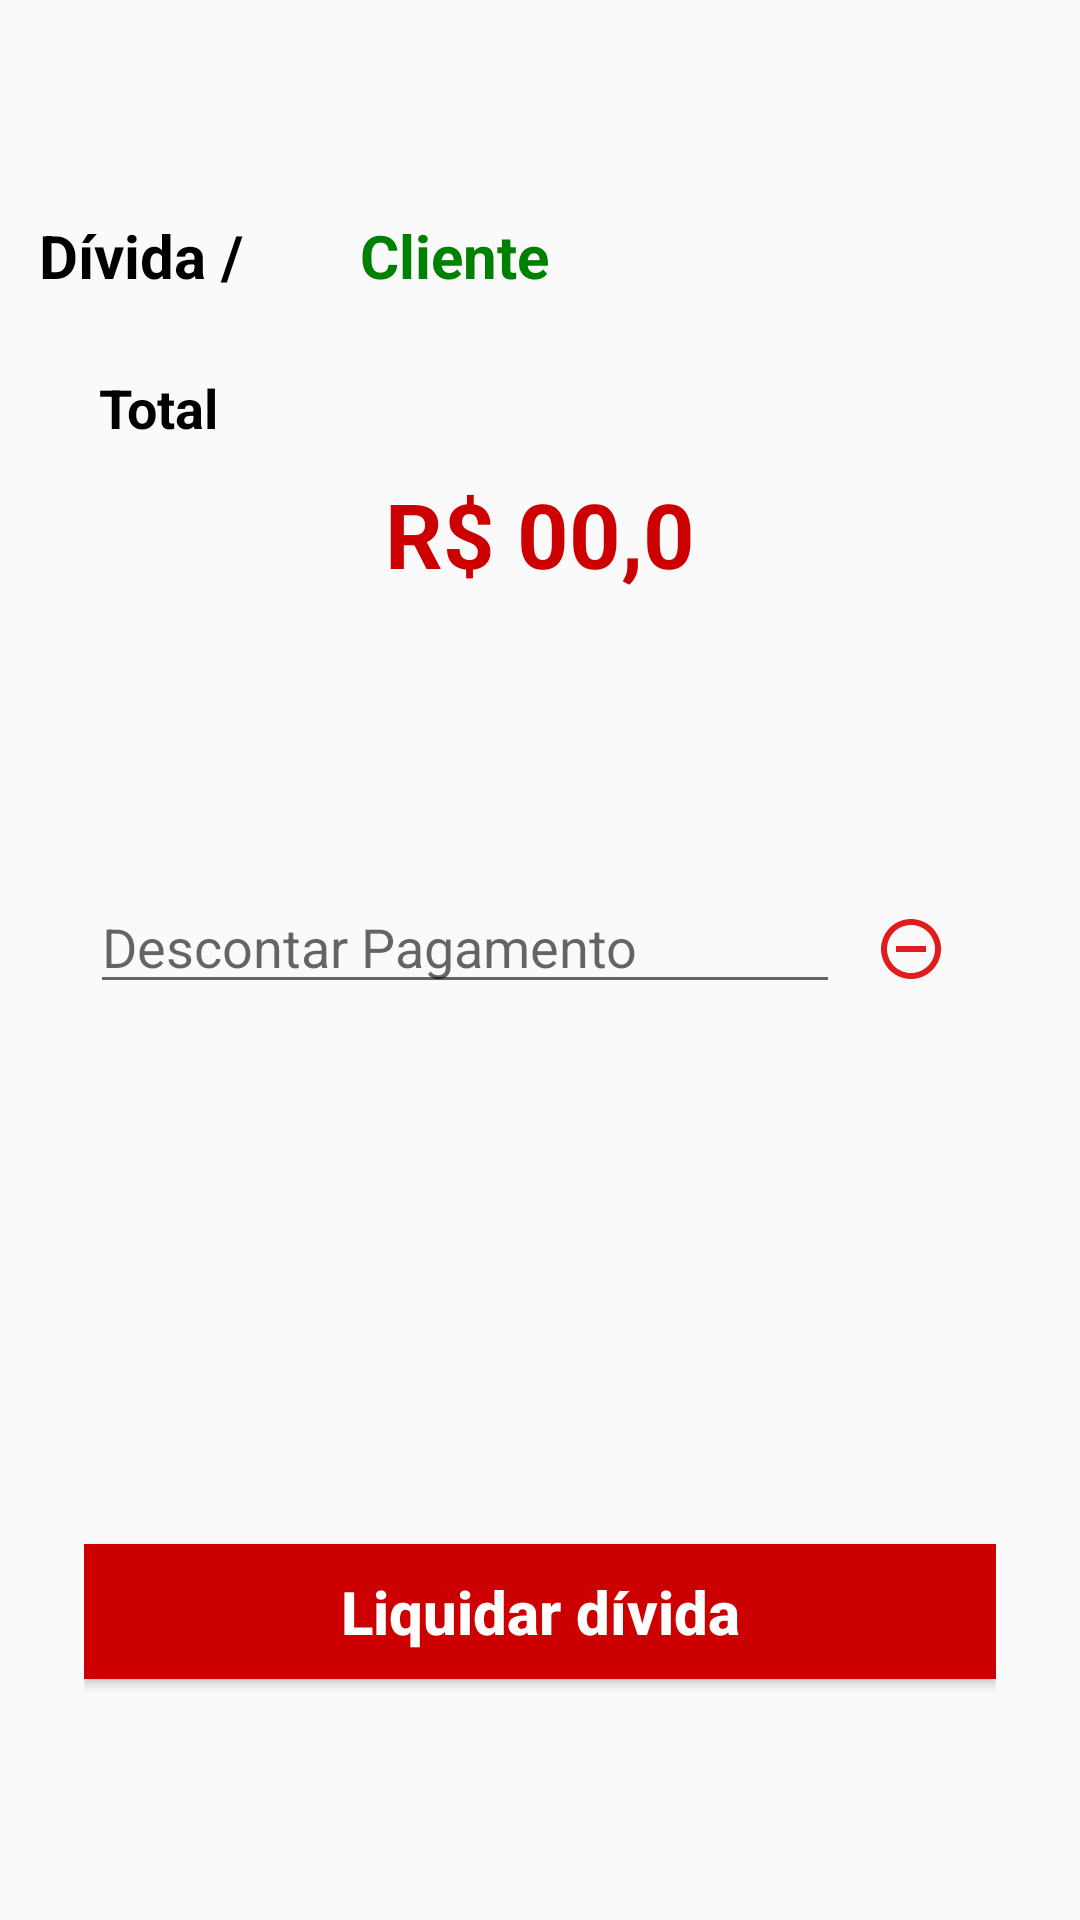

Icon bounding boxes for this 1080px x 1920px phone screenshot, format (x1, y1, x2, y2):
remove circle: (881, 919, 941, 979)
